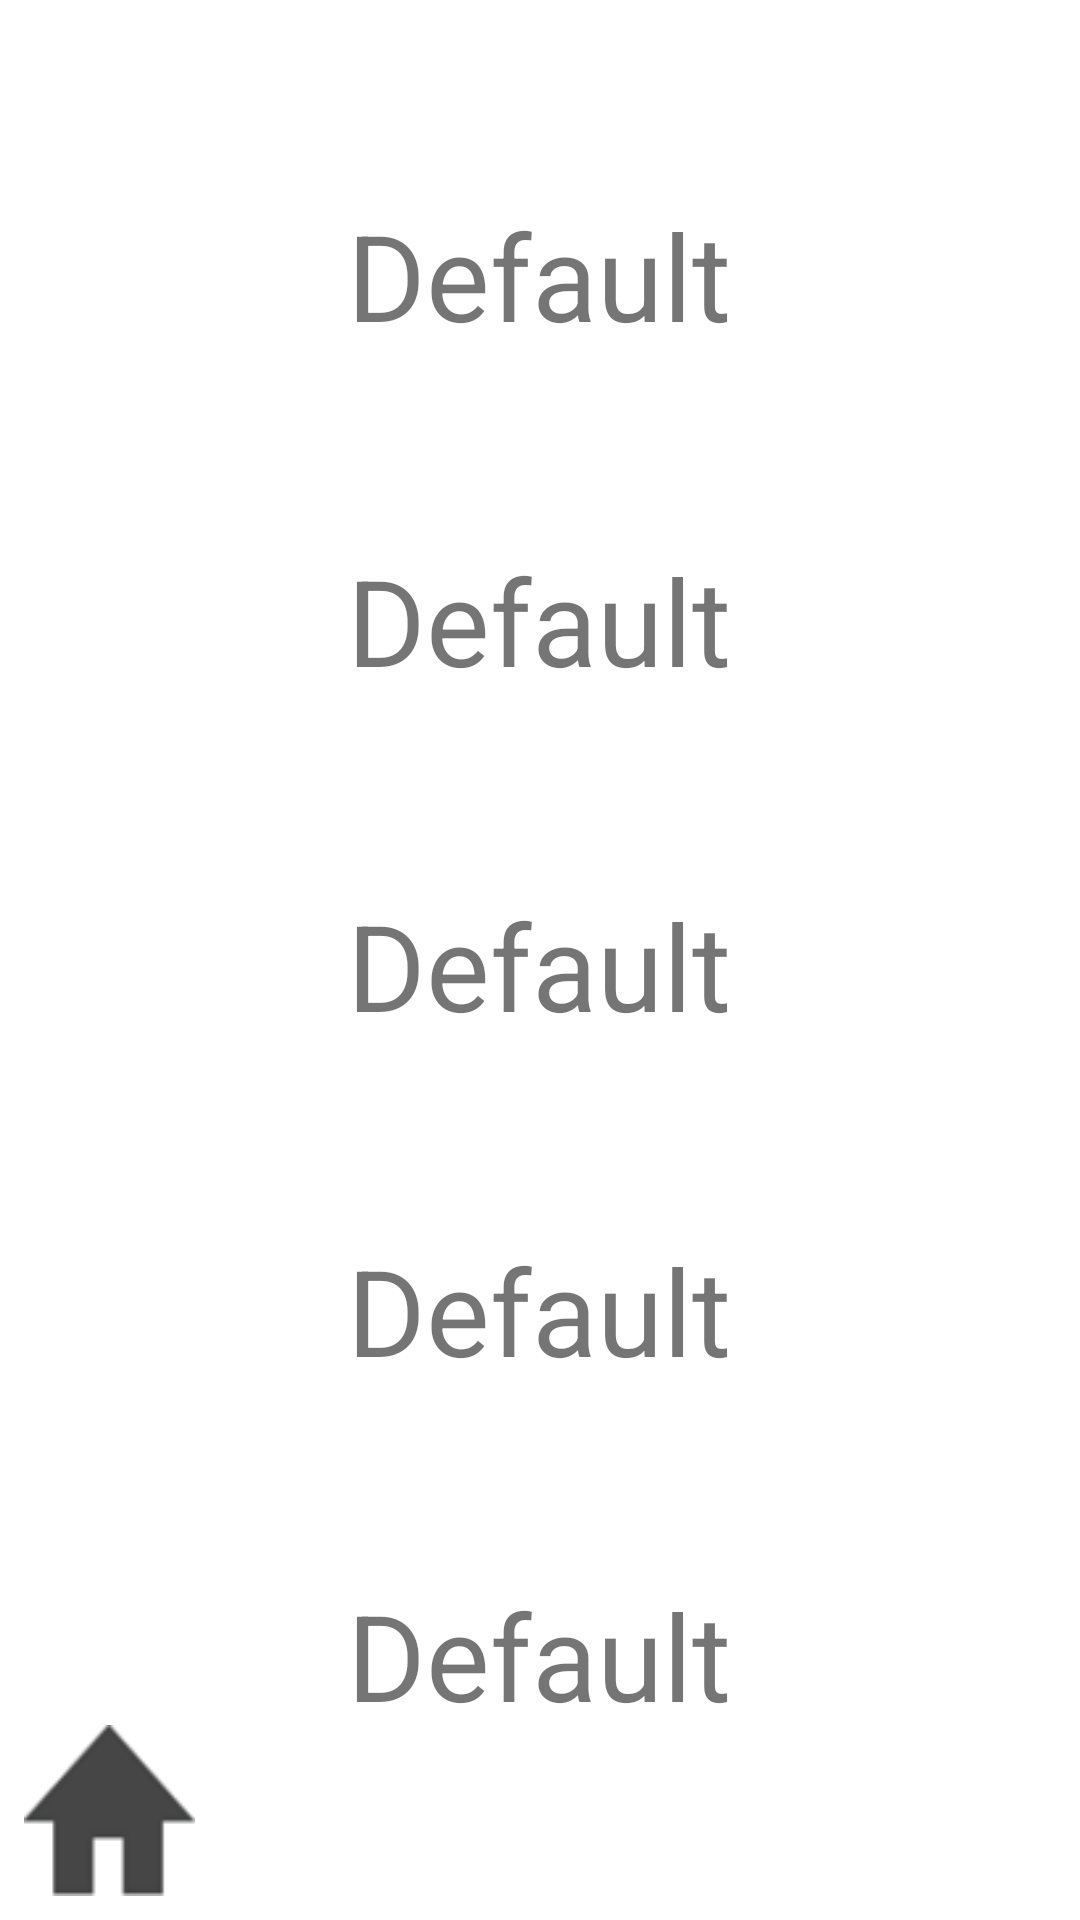

Screen size 1080 × 1920. Icon name, then its box in pixels as (x1, y1, x2, y2):
home: (24, 1725, 195, 1896)
